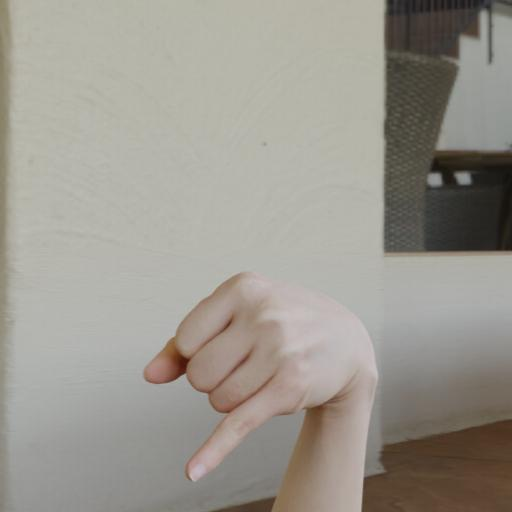J: (143, 270, 383, 488)
